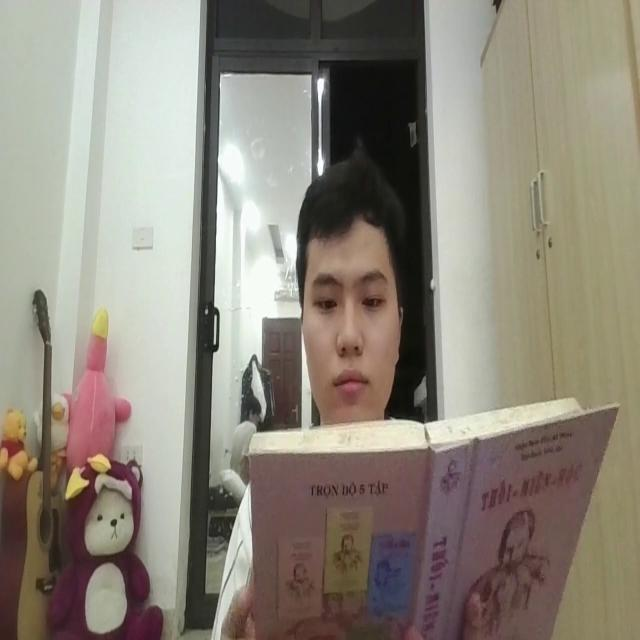book: (252, 393, 620, 640)
student: (299, 156, 407, 429)
